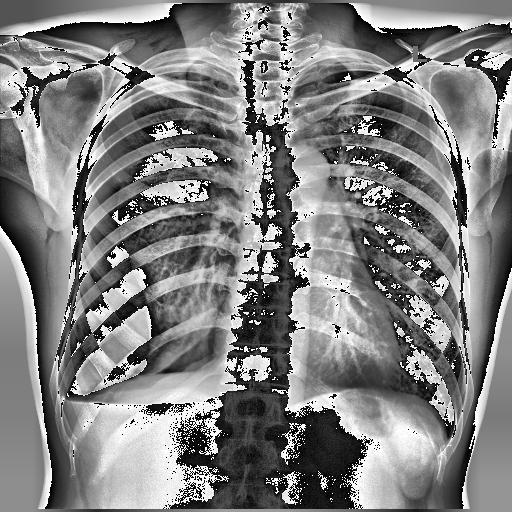10- Pleural effusion: (53, 397, 165, 417), (49, 371, 93, 419), (48, 386, 83, 416)
12- Pneumothorax: (60, 106, 152, 394), (59, 142, 147, 400), (62, 164, 148, 392)
